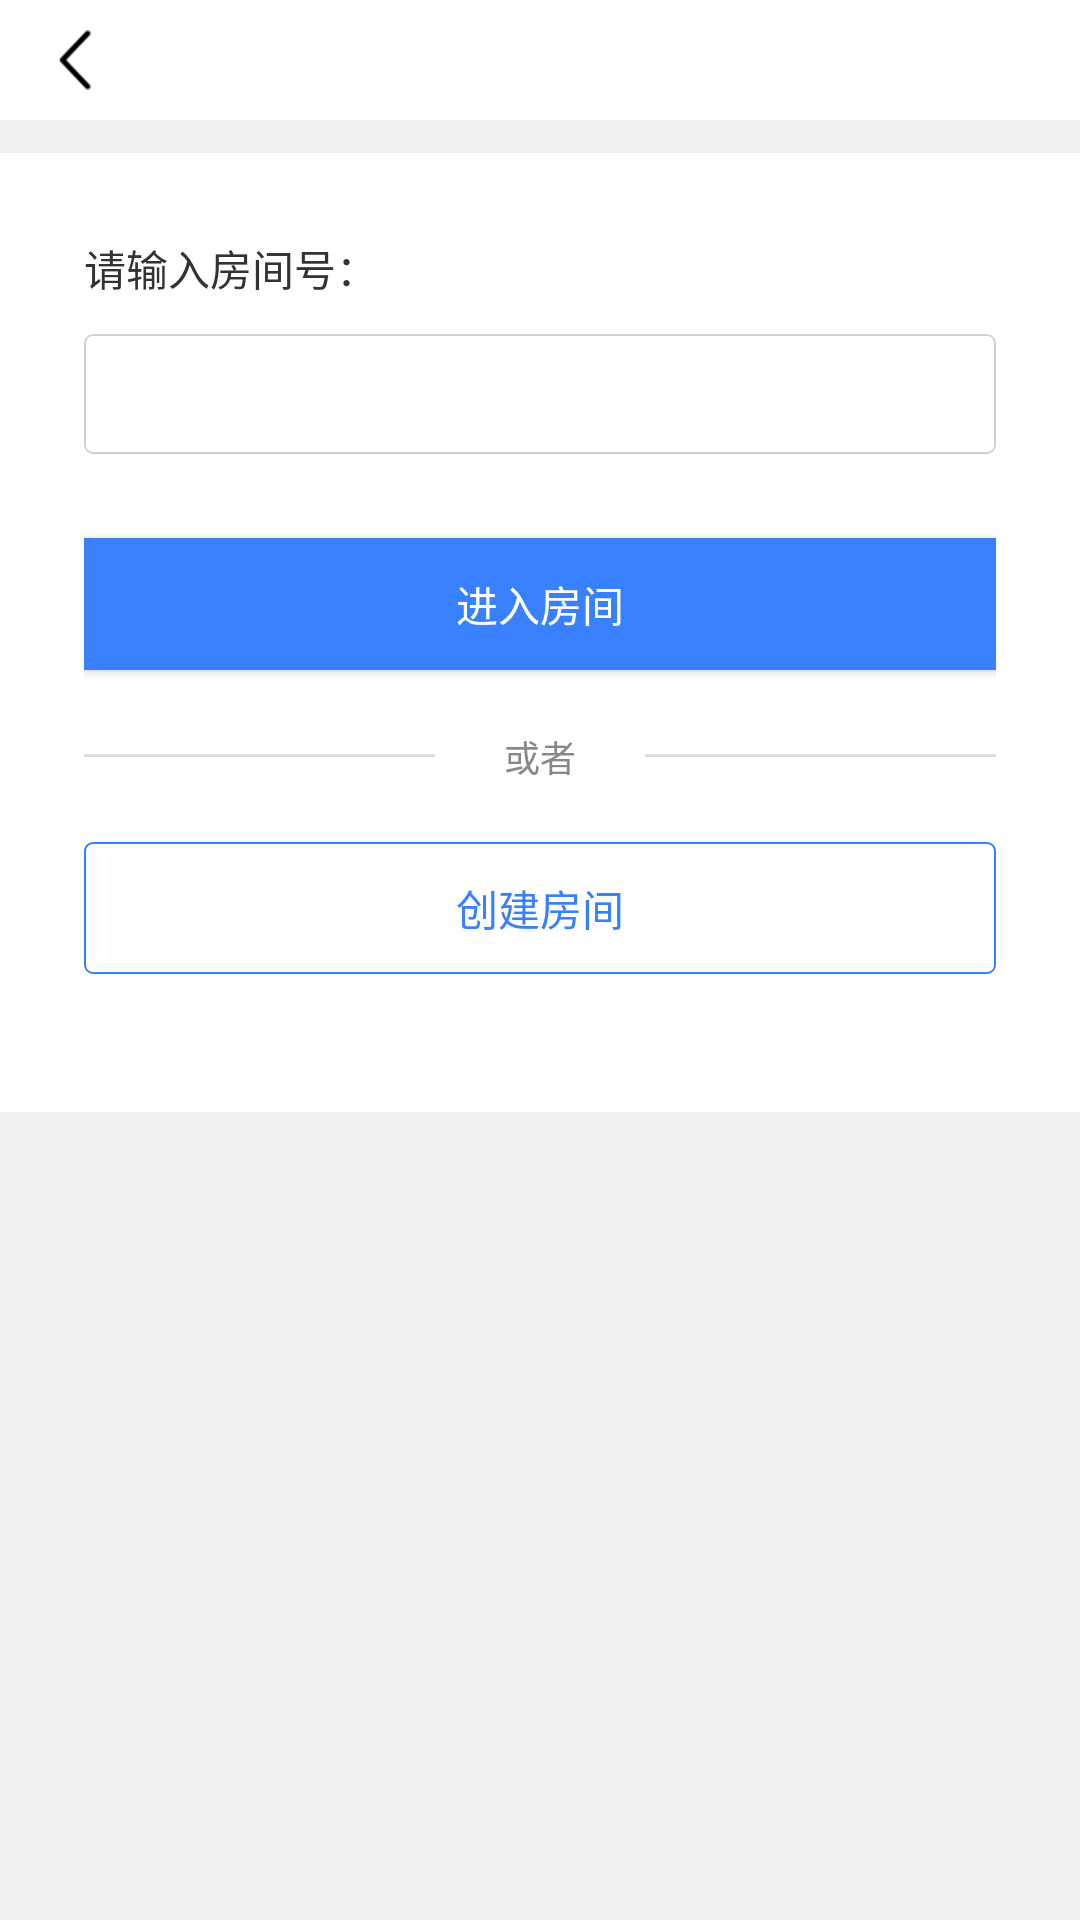

Where icons sit on this 1080 x 1920 app screen, as bbox=(x1, y1, x2, y2):
back: bbox=(59, 30, 92, 90)
